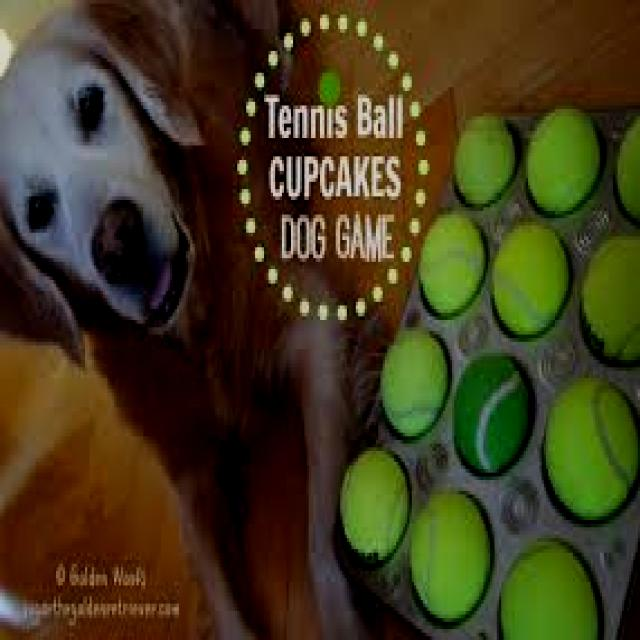tennis-ball: (542, 376, 640, 522), (408, 489, 492, 628), (501, 540, 603, 640), (454, 354, 532, 472), (492, 225, 570, 337), (339, 447, 411, 564), (526, 107, 602, 216), (580, 236, 640, 366), (381, 328, 451, 436), (418, 212, 490, 315), (454, 114, 518, 204), (614, 115, 640, 218)
